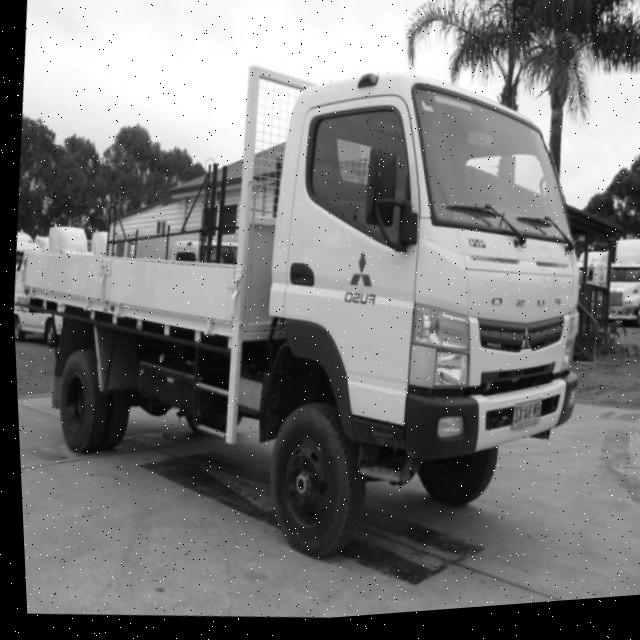truck: (182, 32, 623, 545)
